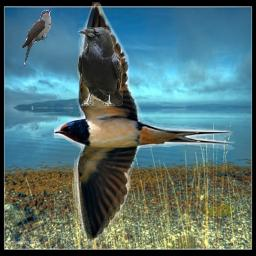Crow: (77, 27, 123, 106)
Cuckoo: (21, 10, 51, 68)
Swallow: (54, 2, 235, 247)
